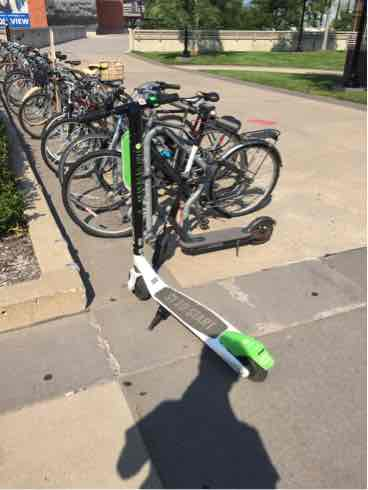scooter: (71, 73, 290, 386)
